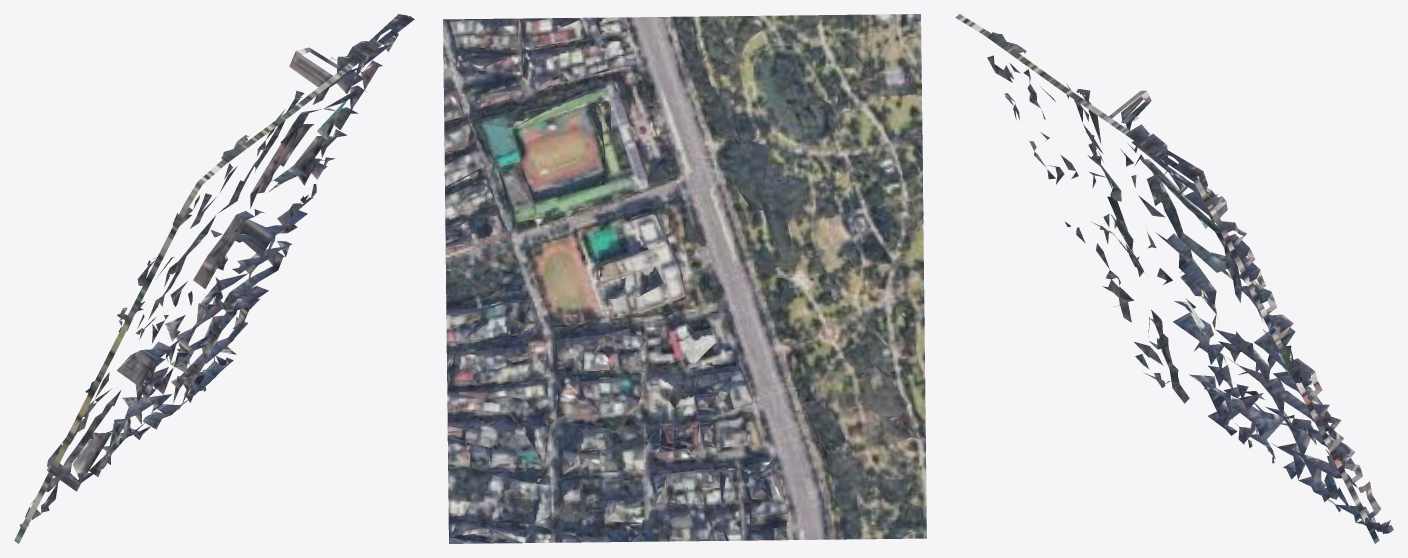
3 renders of one model, left to right at view 1: azimuth 30°, elevation 25°; view 2: azimuth 150°, elevation 25°; view 3: azimuth 270°, elevation 25°, orthographic. The views are drawn at different scales.
Bounding box in the file's own units: 612 × 578 × 534.
Materials: 2 (2 with a texture image).
